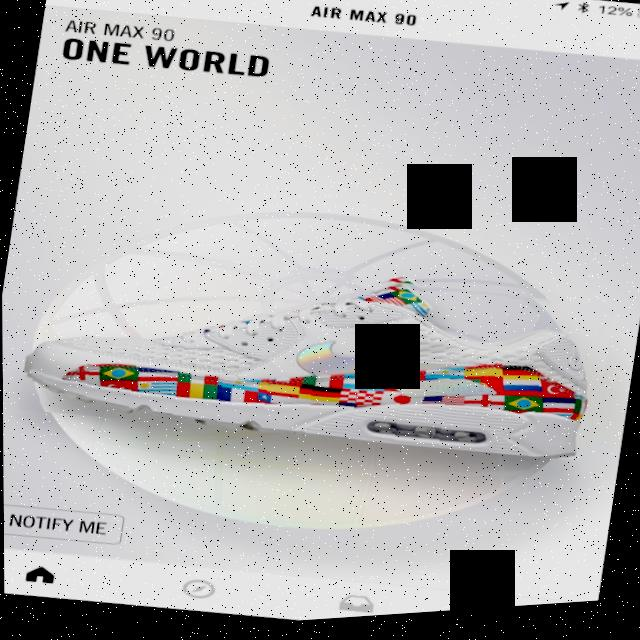shoe: (17, 213, 617, 500)
